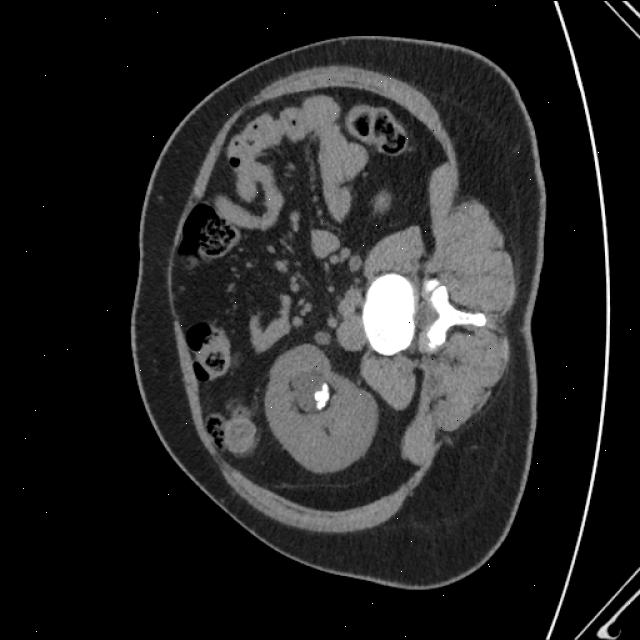kidneystone: (314, 381, 331, 410)
